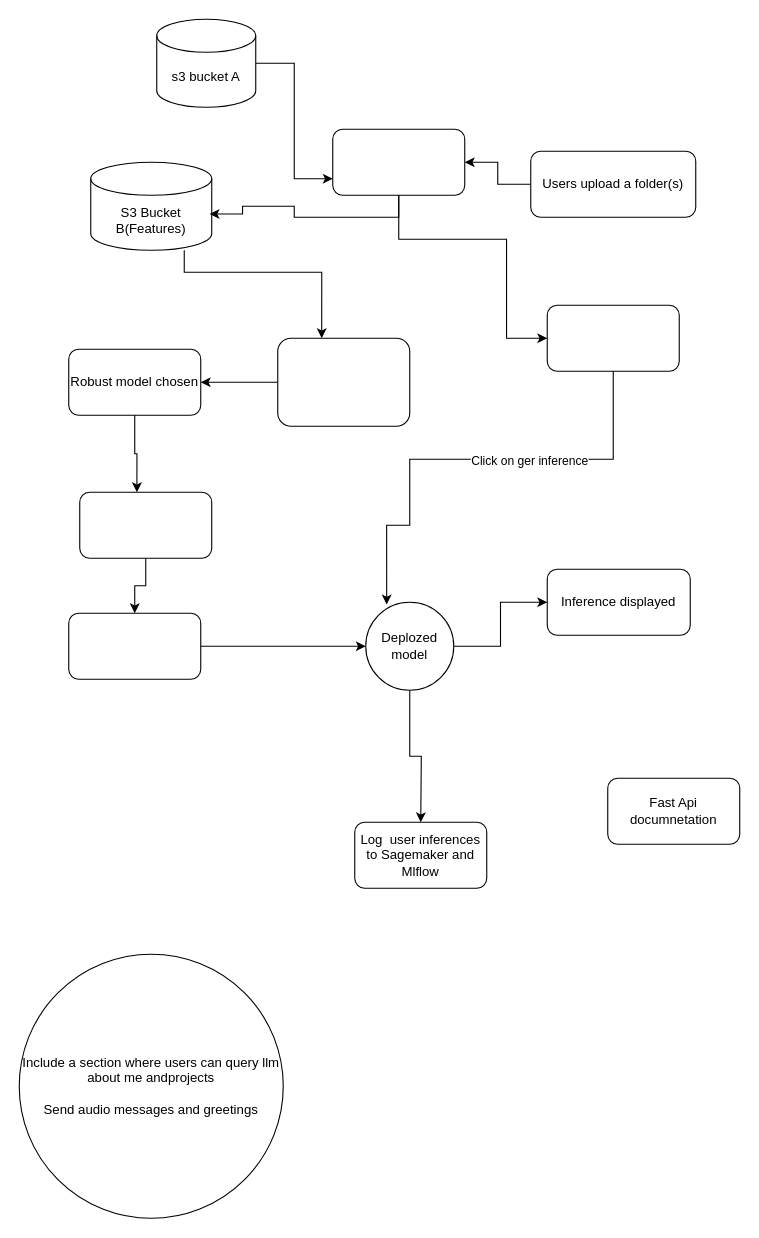
The diagram is 759 pixels wide and 1238 high, and some of its shapes have lost their labels. Each missing label, with the centre of its shape:
containerised on Elastic container Service: (145,524)
Model trained, monitored and versioned on MLFLOW: (343,381)
Output returned to users to see which sections are classified as what: (612,337)
Served on App Runner: (134,645)
step functions called and data preprocessed: (398,161)
